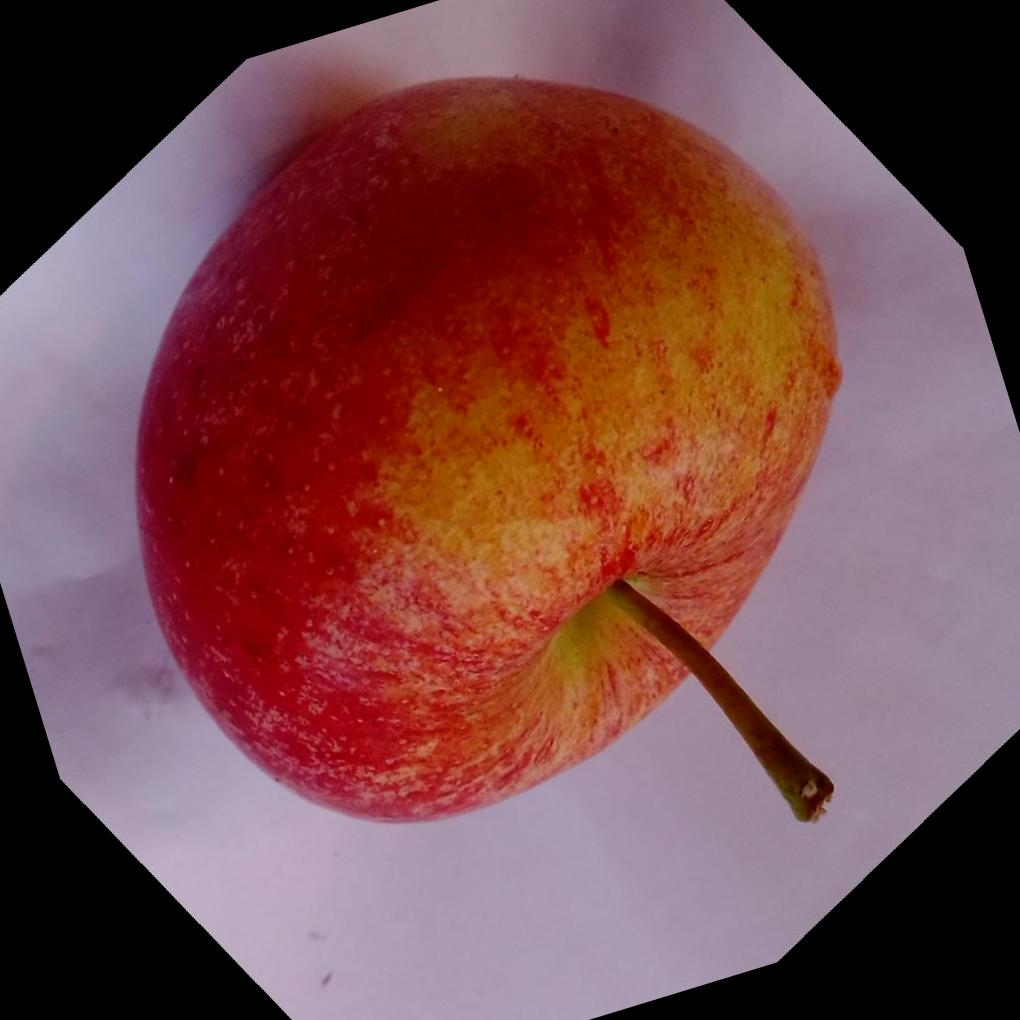FreshGuava: (130, 69, 843, 822)
